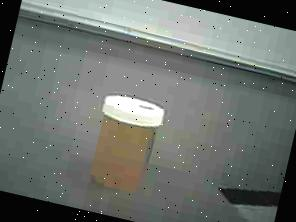Bottle B: (80, 86, 174, 202)
